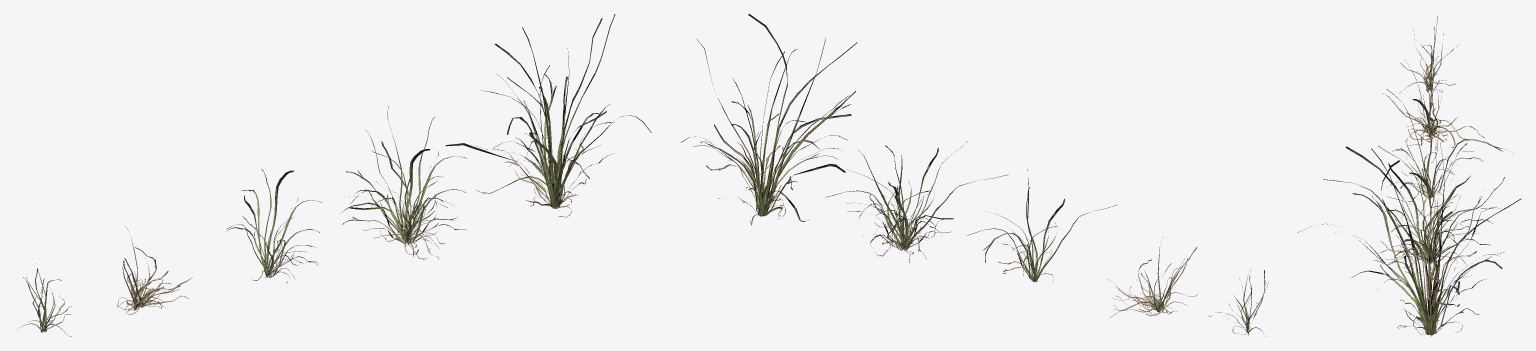
File: grass_medium_02_mobile.glb
3 views of the same model, side by side, from view 1: azimuth 30°, elevation 25°; view 2: azimuth 150°, elevation 25°; view 3: azimuth 270°, elevation 25° (orthographic). The views are drawn at different scales.
Visible parts, largest first — view 1: grass_medium_02_e, grass_medium_02_d, grass_medium_02_c, grass_medium_02_b, grass_medium_02_a; view 2: grass_medium_02_e, grass_medium_02_d, grass_medium_02_c, grass_medium_02_b, grass_medium_02_a; view 3: grass_medium_02_e, grass_medium_02_d, grass_medium_02_c, grass_medium_02_b, grass_medium_02_a.
Part boxes in pixels (box(x1,y1,x2,y2)): grass_medium_02_e: box(446, 14, 651, 217); grass_medium_02_d: box(340, 106, 466, 259); grass_medium_02_c: box(226, 169, 321, 283); grass_medium_02_b: box(117, 229, 192, 314); grass_medium_02_a: box(20, 263, 71, 336); grass_medium_02_e: box(681, 14, 857, 225); grass_medium_02_d: box(826, 141, 1008, 262); grass_medium_02_c: box(967, 169, 1116, 281); grass_medium_02_b: box(1108, 245, 1197, 317); grass_medium_02_a: box(1209, 270, 1268, 335); grass_medium_02_e: box(1298, 143, 1521, 336); grass_medium_02_d: box(1323, 143, 1504, 273); grass_medium_02_c: box(1386, 89, 1513, 214); grass_medium_02_b: box(1382, 59, 1484, 151); grass_medium_02_a: box(1400, 16, 1455, 92).
Bounding box in the file's own units: 1.31 × 0.4053 × 0.4332.
1 material, 1 textured.
